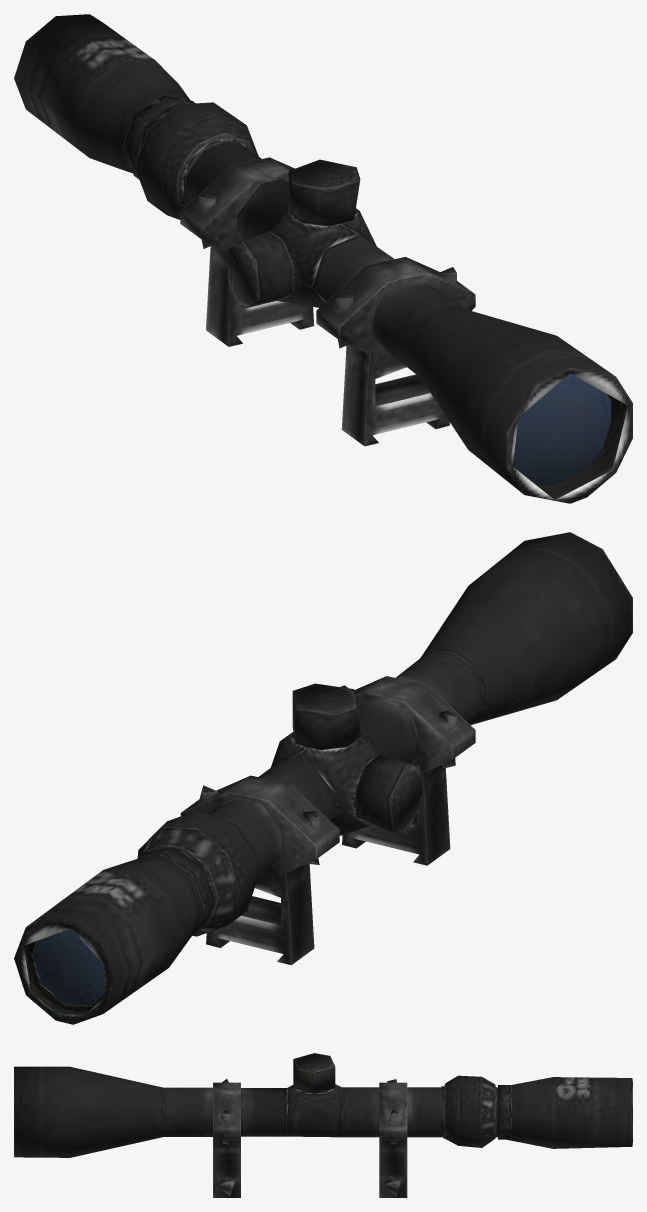
Rendered from scope.glb.
3 renders of one model, top to bottom at view 1: azimuth 30°, elevation 25°; view 2: azimuth 150°, elevation 25°; view 3: azimuth 270°, elevation 25°, orthographic. The views are drawn at different scales.
Visible parts, largest first — view 1: Object_3, Object_2; view 2: Object_3, Object_2; view 3: Object_3.
Part boxes in pixels (x1,y1,x2,y2): Object_3: [14, 14, 632, 503]; Object_2: [513, 373, 611, 484]; Object_3: [14, 532, 632, 1024]; Object_2: [32, 928, 104, 1005]; Object_3: [14, 1053, 632, 1197].
Size of the model in its own units: 0.0616 by 0.0787 by 0.36.
Materials: 1 (1 with a texture image).
